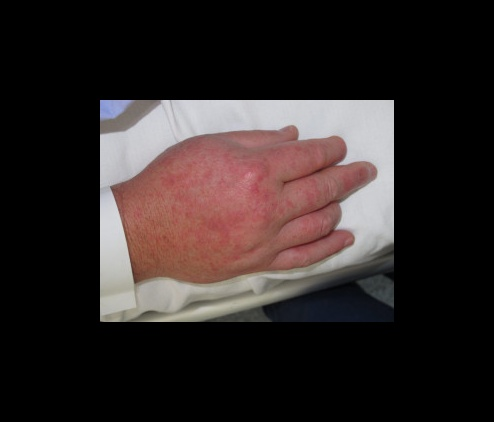SJS-TEN: (114, 99, 395, 307)
